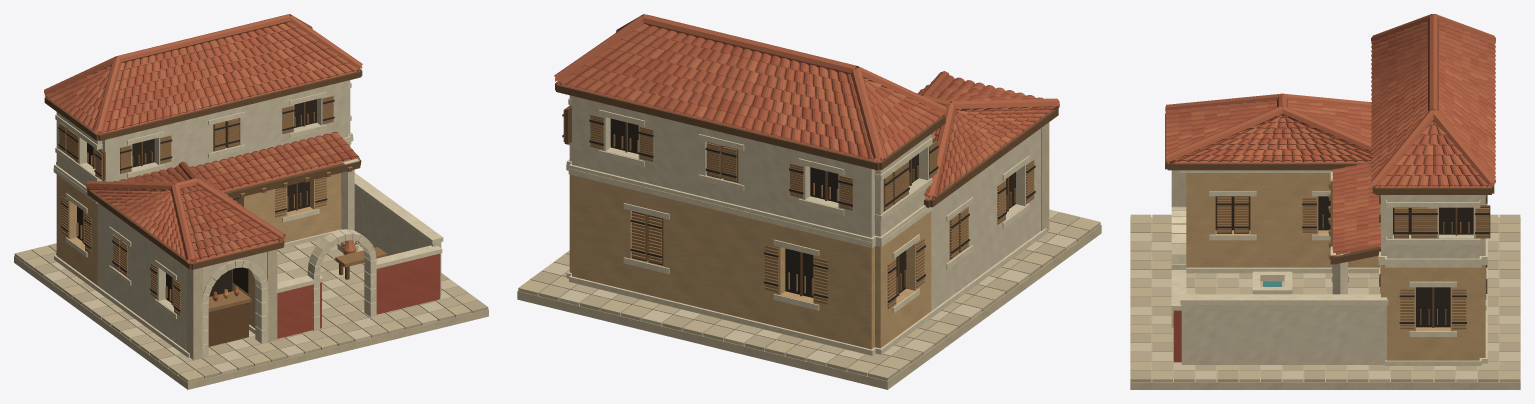
File: verona_courtyard_house.glb
The picture shows the model from 3 angles, left to right: view 1: azimuth 30°, elevation 25°; view 2: azimuth 150°, elevation 25°; view 3: azimuth 270°, elevation 25°; orthographic projection. The views are drawn at different scales.
Visible parts, largest first — view 1: Limewash, Tile_0, Tile_1, Limestone_trim.001, Limestone_trim, Limewash.001, Oak, Oak_edge, Travertine.001, Warm_ochre, Pompeian_red, Paving_3 (+16 smaller); view 2: Warm_ochre, Limewash, Limewash.001, Tile_0, Tile_1, Warm_ochre.001, Limestone_trim.001, Oak_edge, Limestone_trim, Oak, Travertine.001, Tile_5 (+14 smaller); view 3: Warm_ochre, Tile_0, Limewash, Tile_1, Warm_ochre.001, Limewash.001, Limestone_trim.001, Limestone_trim, Paving_0, Tile_5, Paving_3, Paving_1 (+15 smaller).
Boxes of the visible parts, x1,y1,x2,y2 form: Limewash: [57, 80, 440, 350]; Tile_0: [54, 22, 353, 261]; Tile_1: [44, 14, 362, 263]; Limestone_trim.001: [53, 82, 443, 358]; Limestone_trim: [54, 84, 441, 357]; Limewash.001: [56, 80, 441, 339]; Oak: [44, 70, 362, 345]; Oak_edge: [59, 96, 385, 315]; Travertine.001: [14, 243, 488, 389]; Warm_ochre: [57, 145, 349, 328]; Pompeian_red: [277, 253, 439, 337]; Paving_3: [14, 239, 468, 375]; Warm_ochre: [570, 174, 927, 349]; Limewash: [570, 95, 1040, 310]; Limewash.001: [569, 95, 1040, 310]; Tile_0: [555, 26, 1055, 193]; Tile_1: [554, 14, 1059, 199]; Warm_ochre.001: [569, 174, 931, 349]; Limestone_trim.001: [566, 98, 1046, 355]; Oak_edge: [563, 106, 1034, 308]; Limestone_trim: [567, 100, 1046, 354]; Oak: [555, 83, 1058, 295]; Travertine.001: [517, 122, 1101, 389]; Tile_5: [585, 24, 1046, 178]; Warm_ochre: [1186, 173, 1484, 360]; Tile_0: [1166, 24, 1495, 250]; Limewash: [1182, 195, 1484, 363]; Tile_1: [1165, 14, 1495, 233]; Warm_ochre.001: [1186, 173, 1485, 360]; Limewash.001: [1181, 195, 1485, 364]; Limestone_trim.001: [1171, 170, 1487, 365]; Limestone_trim: [1171, 170, 1487, 365]; Paving_0: [1130, 214, 1520, 381]; Tile_5: [1166, 28, 1495, 240]; Paving_3: [1130, 214, 1520, 381]; Paving_1: [1130, 223, 1520, 381].
Size of the model in its own units: 9.2 by 6.4 by 9.2.
Materials: 29 (9 with a texture image).
